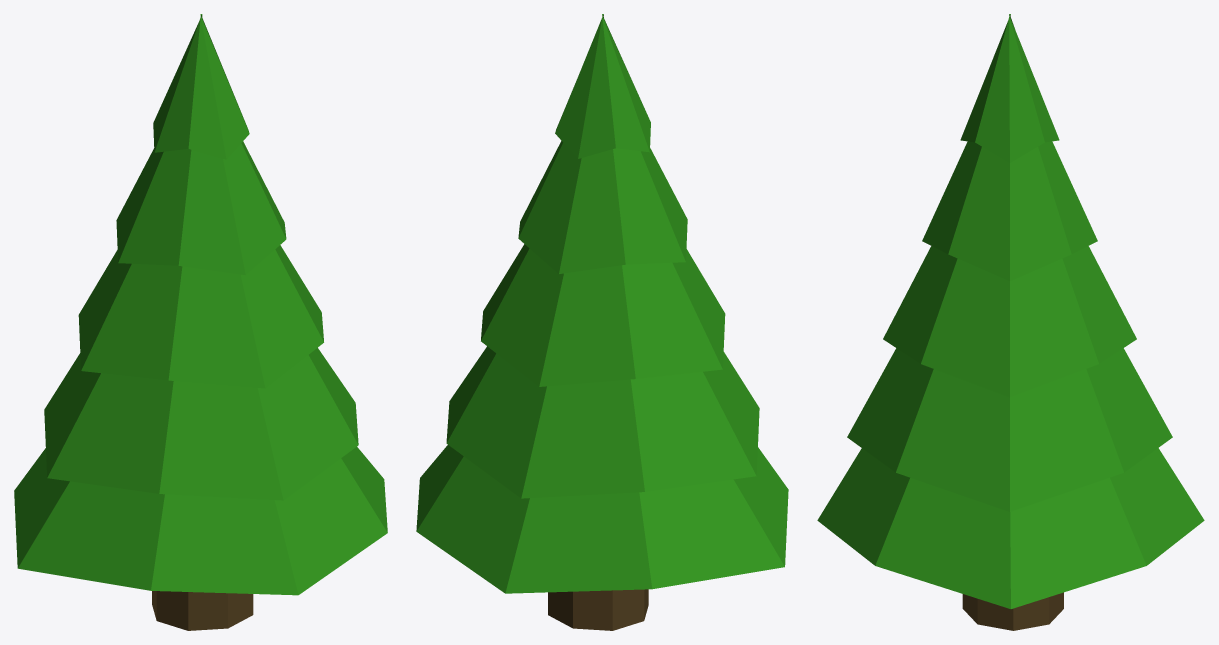
Rendered from plain_tree.fbx.
3 views of the same model, side by side, from view 1: azimuth 30°, elevation 25°; view 2: azimuth 150°, elevation 25°; view 3: azimuth 270°, elevation 25° (orthographic).
Visible parts, largest first — view 1: Cylinder.001; view 2: Cylinder.001; view 3: Cylinder.001.
Boxes of the visible parts, bbox=[...] form: Cylinder.001: bbox=[14, 14, 387, 630]; Cylinder.001: bbox=[416, 14, 788, 630]; Cylinder.001: bbox=[817, 14, 1204, 630].
Size of the model in its own units: 594 by 924 by 547.
